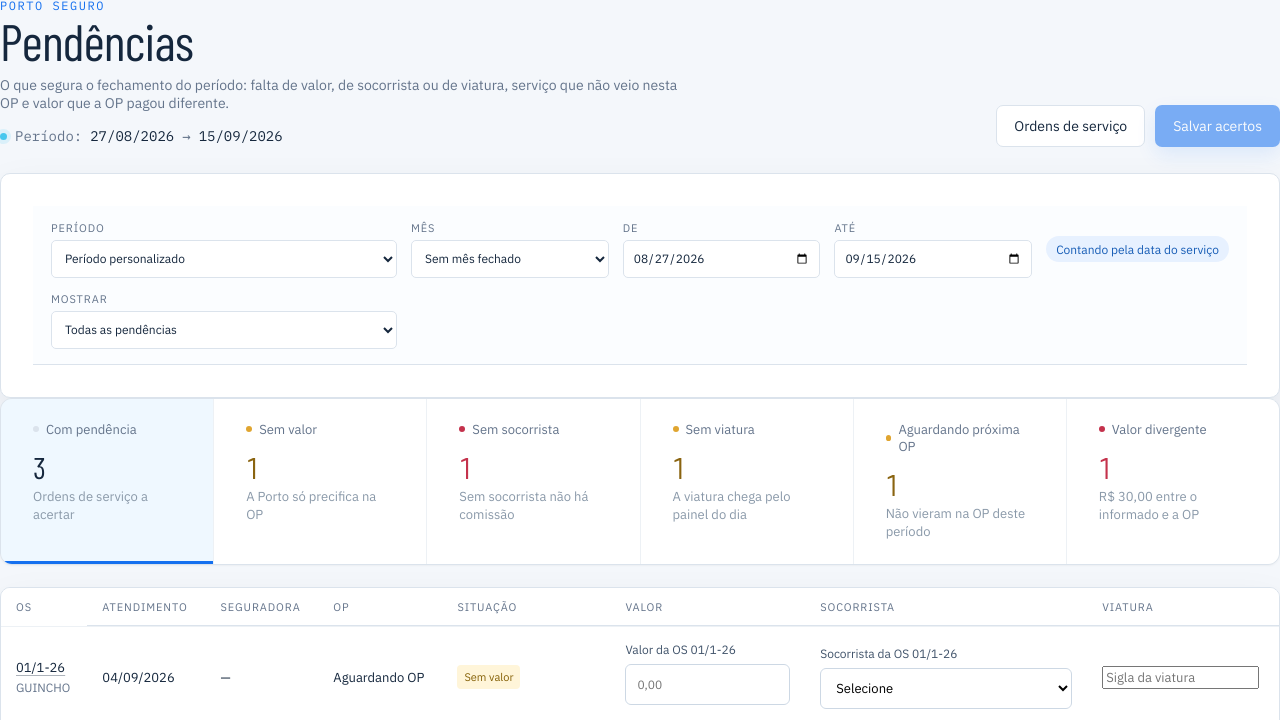
Test case: clicar no quadro filtra a lista
What coordinates should you click on to do the following:
click the button "Valor divergente 1 R$ 30,00 entre o informado e a OP"
I would click on:
 (1173, 481)
Its box is 1067,399 -> 1279,564.
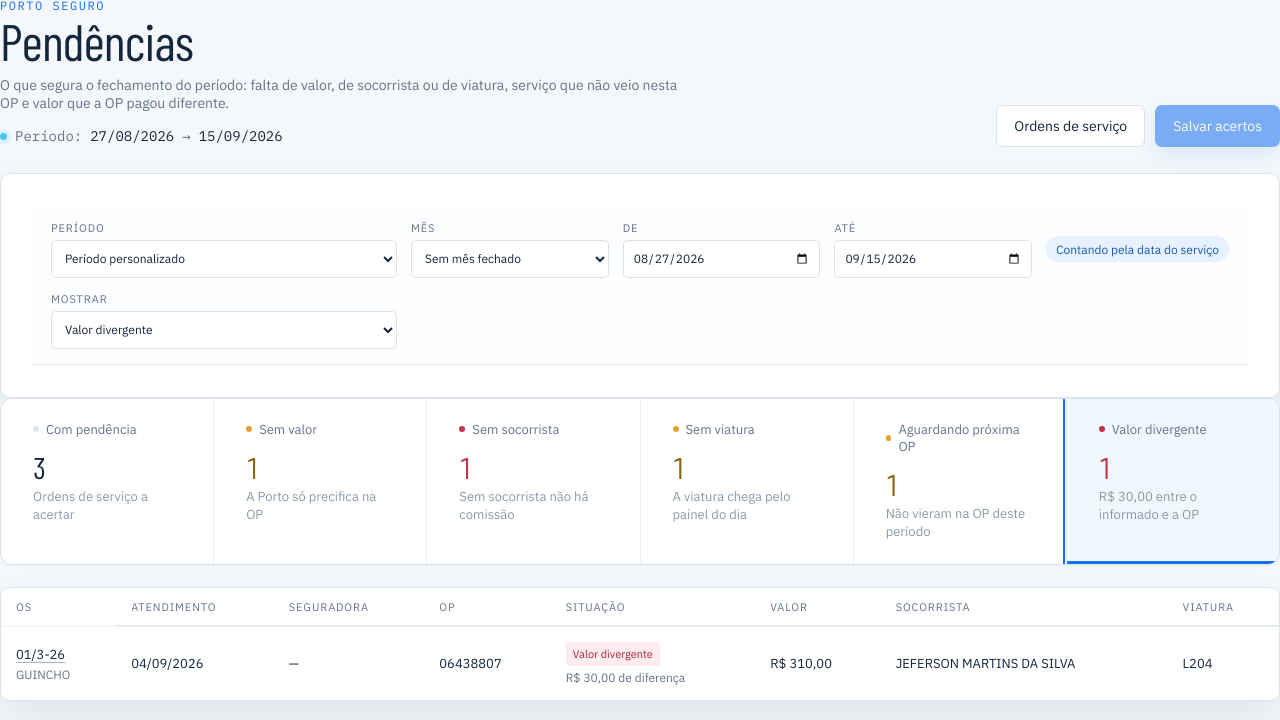
Check: the link "01/3-26" is shown, box 16,646 -> 65,663
Check: the link "01/1-26" is gone
